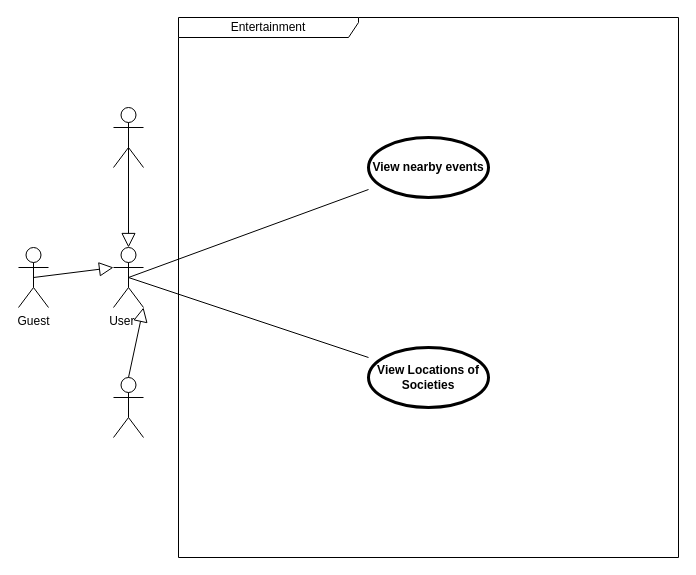
Some shapes in this 696 by 575 pixel diagram are drawn without their labels. Here are the shapes that lost their labels. From the top down, the centre of each, then its label:
At point (128, 137): "Student".
At point (128, 407): "Staff".
